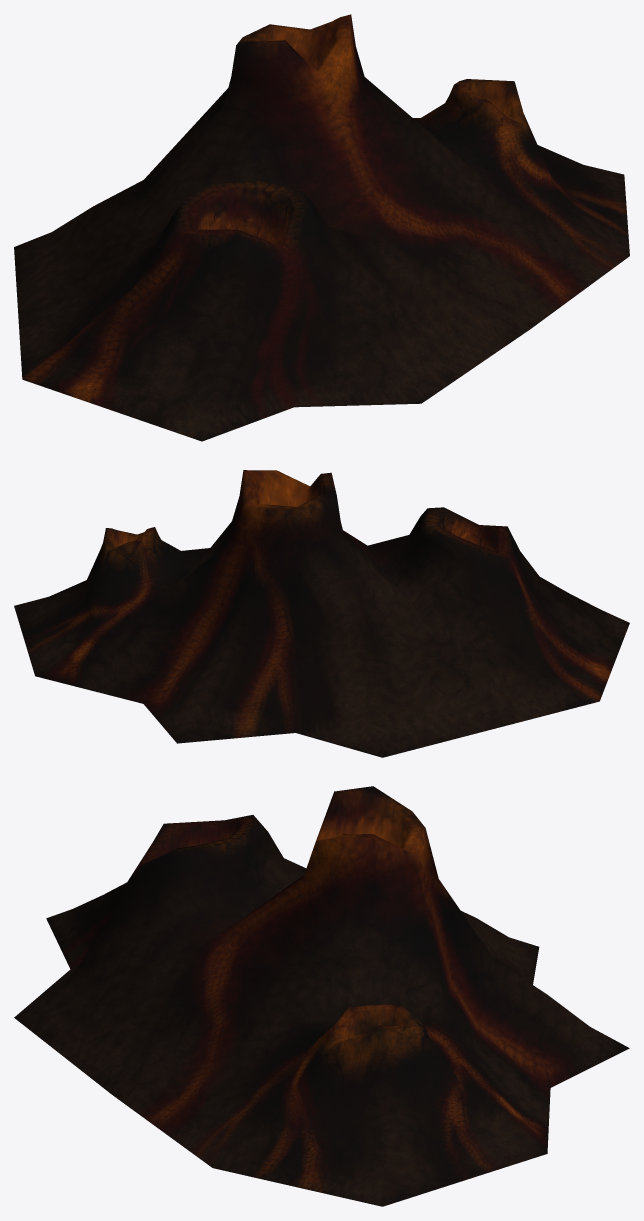
File: Volcano.fbx
The picture shows the model from 3 angles, top to bottom: view 1: azimuth 30°, elevation 25°; view 2: azimuth 150°, elevation 25°; view 3: azimuth 270°, elevation 25°; orthographic projection. The views are drawn at different scales.
Visible parts, largest first — view 1: volcano_geo; view 2: volcano_geo; view 3: volcano_geo.
Part boxes in pixels (<box>): volcano_geo: <box>14,14,629,441</box>; volcano_geo: <box>14,470,629,757</box>; volcano_geo: <box>14,786,629,1206</box>.
Size of the model in its own units: 668 by 227 by 538.
